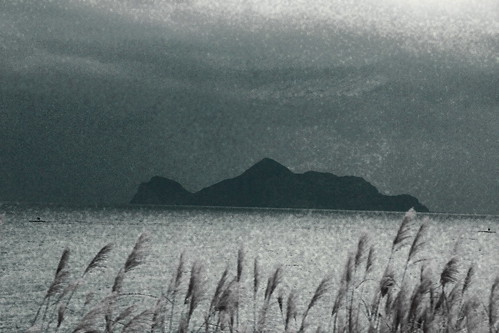turtleIslandLeft: (131, 154, 432, 214)
